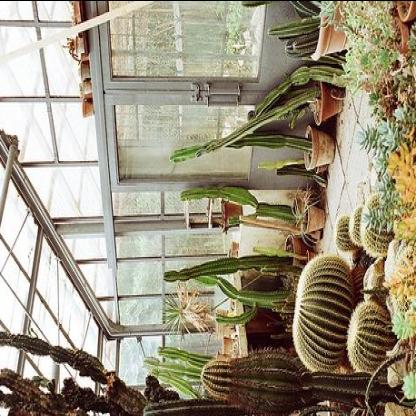Cactus: (292, 256, 356, 374), (346, 306, 390, 378), (358, 194, 396, 260), (333, 214, 357, 255)
